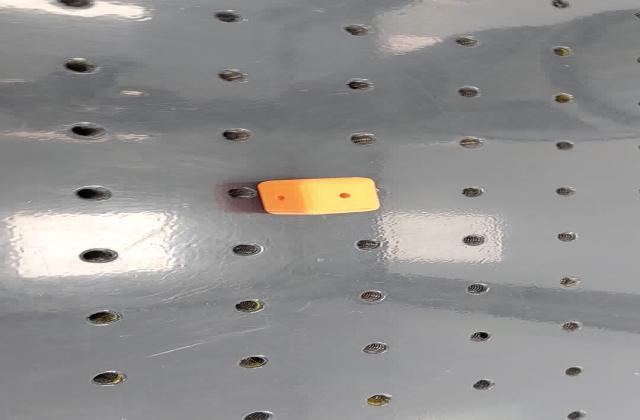cube: (255, 176, 390, 218)
